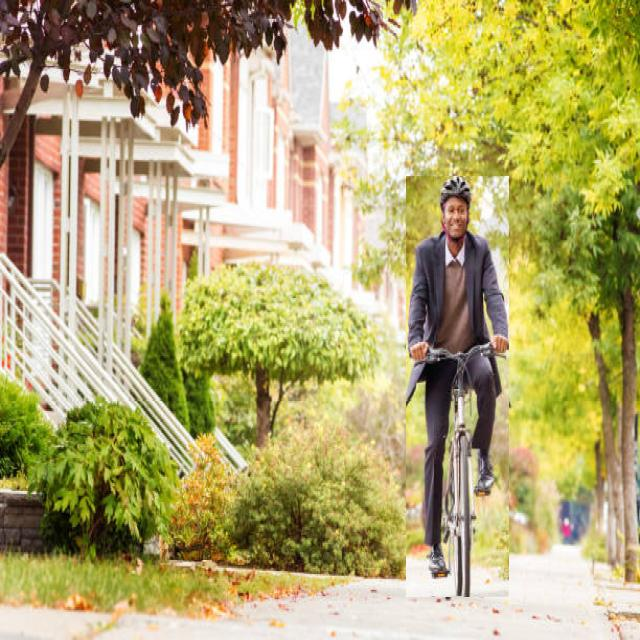bicycle: (406, 176, 509, 597)
